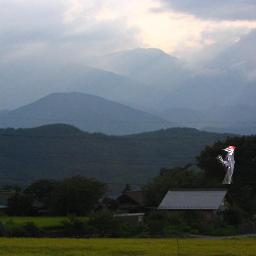Woodpecker: (216, 146, 236, 184)
